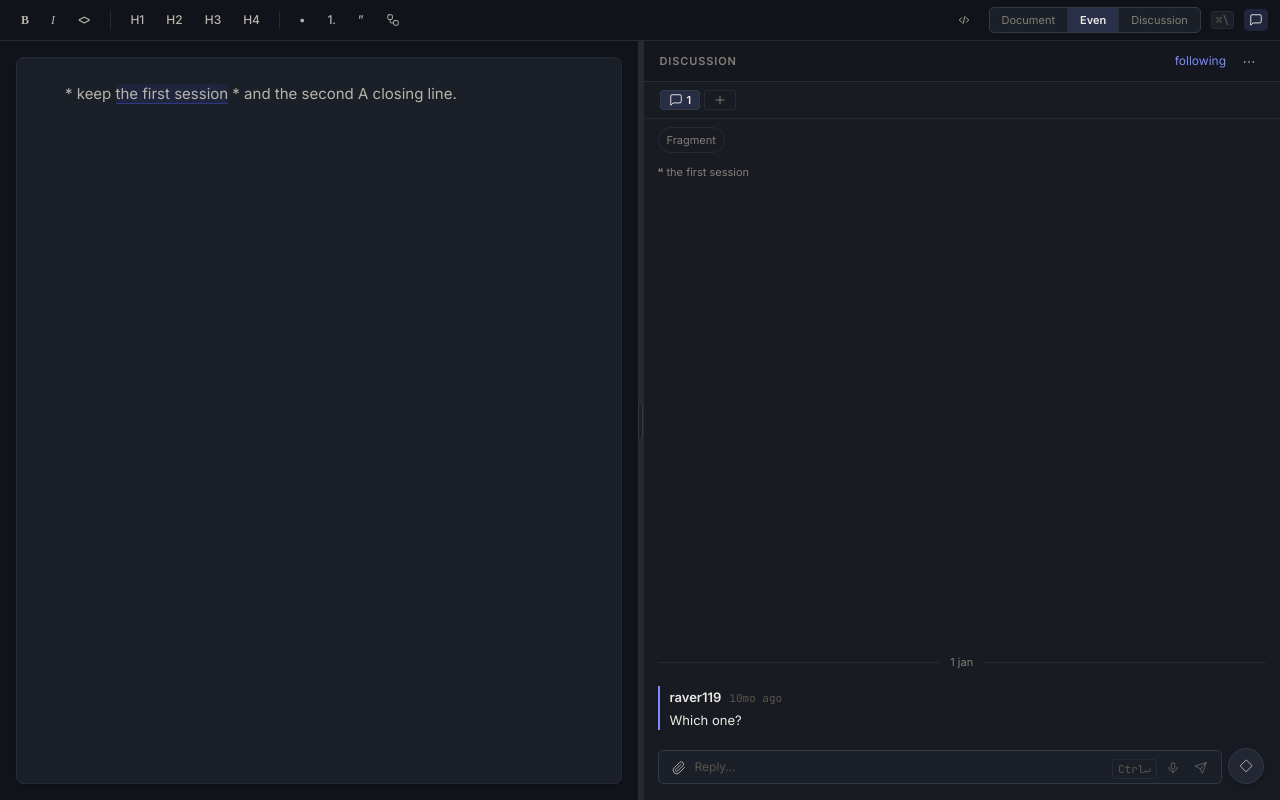
Test: a respelling does not orphan a comment thread (CMT-FR-66) › keeps the thread anchored across the undo itself
Expected: the element with test id "editor-discussion-column" shows "the first session", [658, 165, 1266, 180]
Press a in the field labelled "* keep the first session * and the second A closing line.", box [65, 84, 457, 104]
Press the mouse on the button titled "Italic" at [53, 20], box [42, 8, 64, 32]
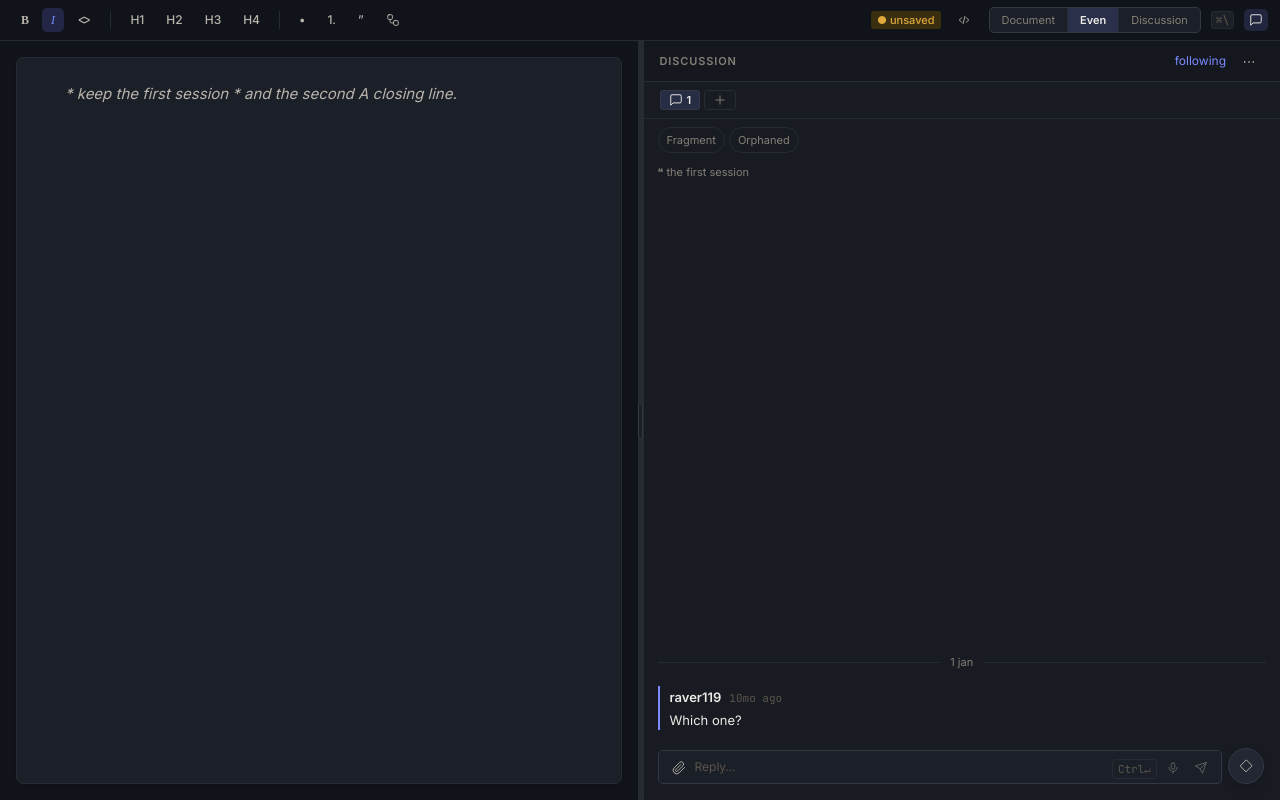
Press z in the field labelled "* keep the first session * and the second A closing line.", box [65, 84, 457, 103]
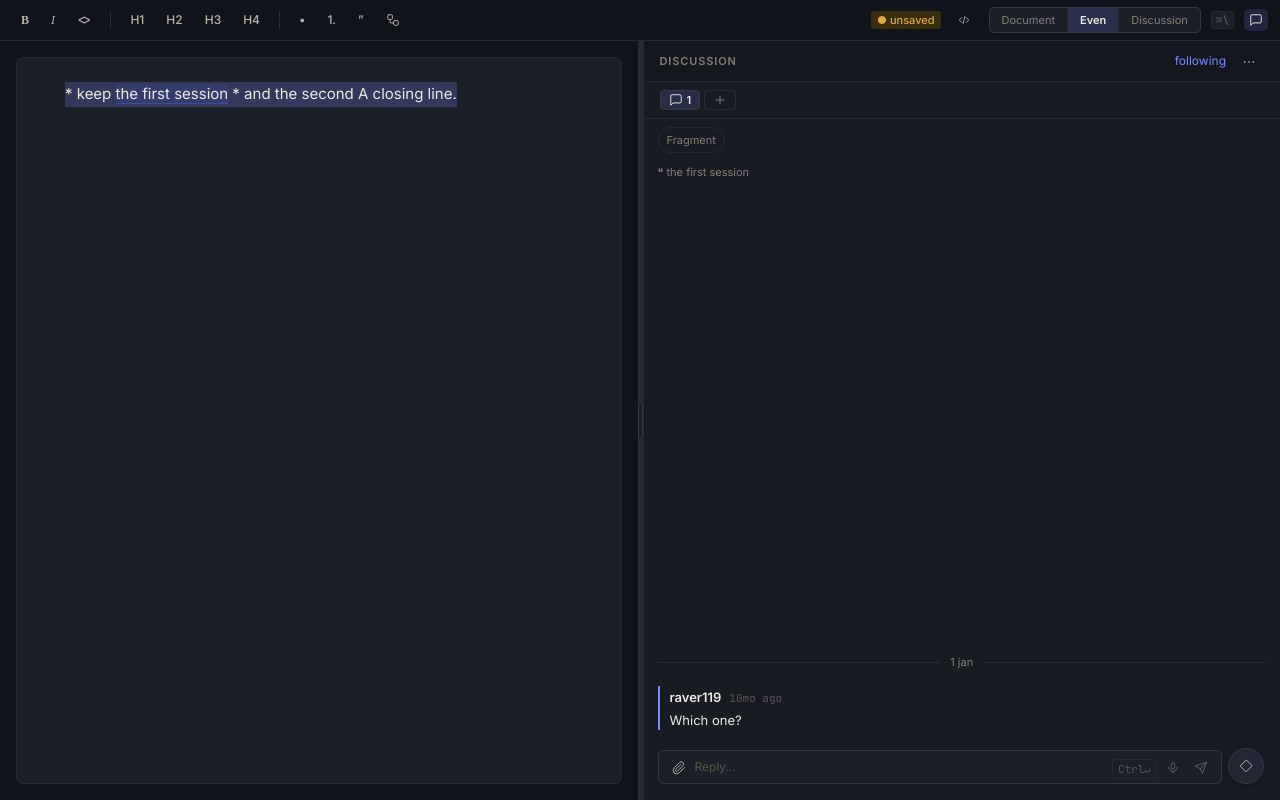
Expected: the element with test id "editor-discussion-column" shows "the first session", [658, 165, 1266, 180]
Result: the element with test id "comment-thread-t1" no longer shows "Orphaned" at [644, 119, 1279, 799]
